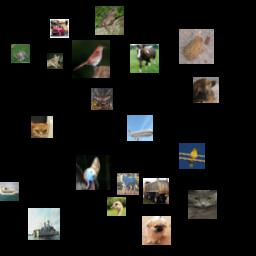airplane: (127, 115, 153, 141)
automobile: (50, 19, 69, 38)
bird: (72, 40, 110, 78), (76, 155, 111, 190), (179, 143, 205, 169), (107, 197, 126, 216)
cat: (188, 190, 217, 219), (31, 116, 53, 138), (47, 53, 63, 69)
deer: (91, 88, 113, 110), (11, 44, 30, 63)
dog: (142, 216, 171, 245), (193, 77, 219, 103)
frog: (179, 29, 214, 64), (95, 6, 124, 35)
ship: (28, 208, 60, 240), (0, 182, 19, 201)
truck: (143, 178, 169, 204)
